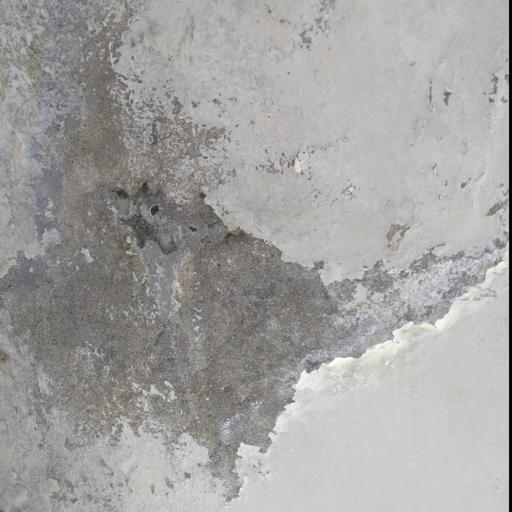peeling: (0, 0, 509, 493)
